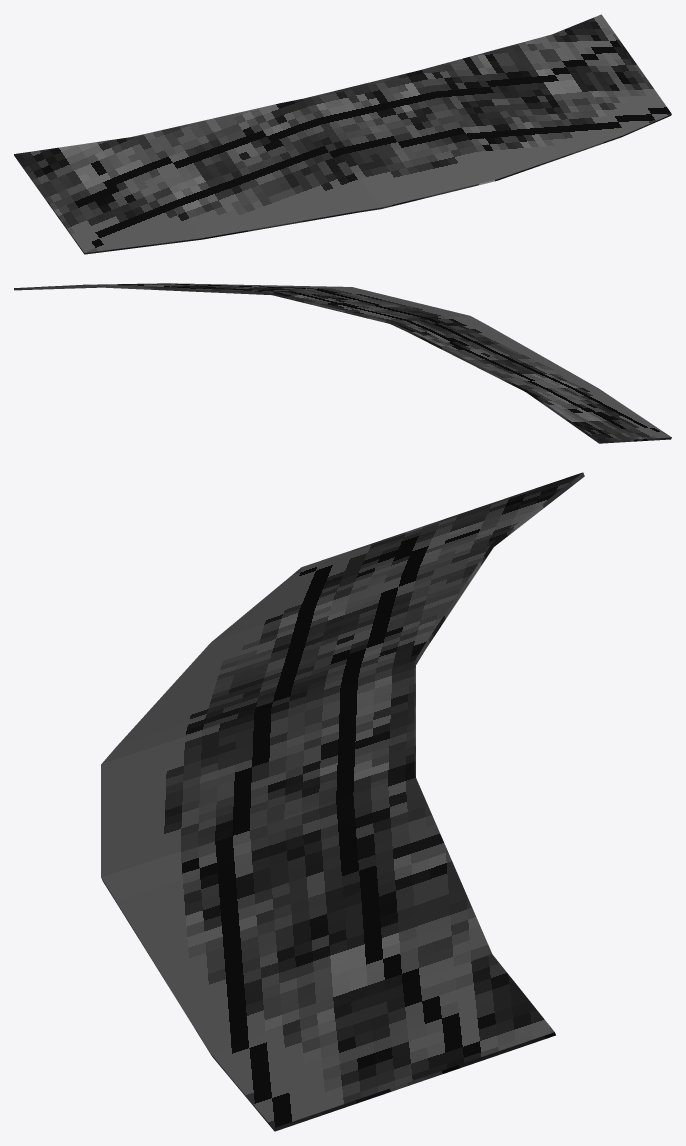
Rendered from F7_TopRadiator.glb.
The picture shows the model from 3 angles, top to bottom: view 1: azimuth 30°, elevation 25°; view 2: azimuth 150°, elevation 25°; view 3: azimuth 270°, elevation 25°; orthographic projection. The views are drawn at different scales.
Visible parts, largest first — view 1: TopRadiatorFlap.001; view 2: TopRadiatorFlap.001; view 3: TopRadiatorFlap.001.
Boxes of the visible parts, bbox=[...] form: TopRadiatorFlap.001: bbox=[14, 14, 671, 254]; TopRadiatorFlap.001: bbox=[14, 283, 671, 443]; TopRadiatorFlap.001: bbox=[101, 472, 584, 1131].
Bounding box in the file's own units: 15.03 × 1.86 × 5.42.
1 material, 1 textured.
